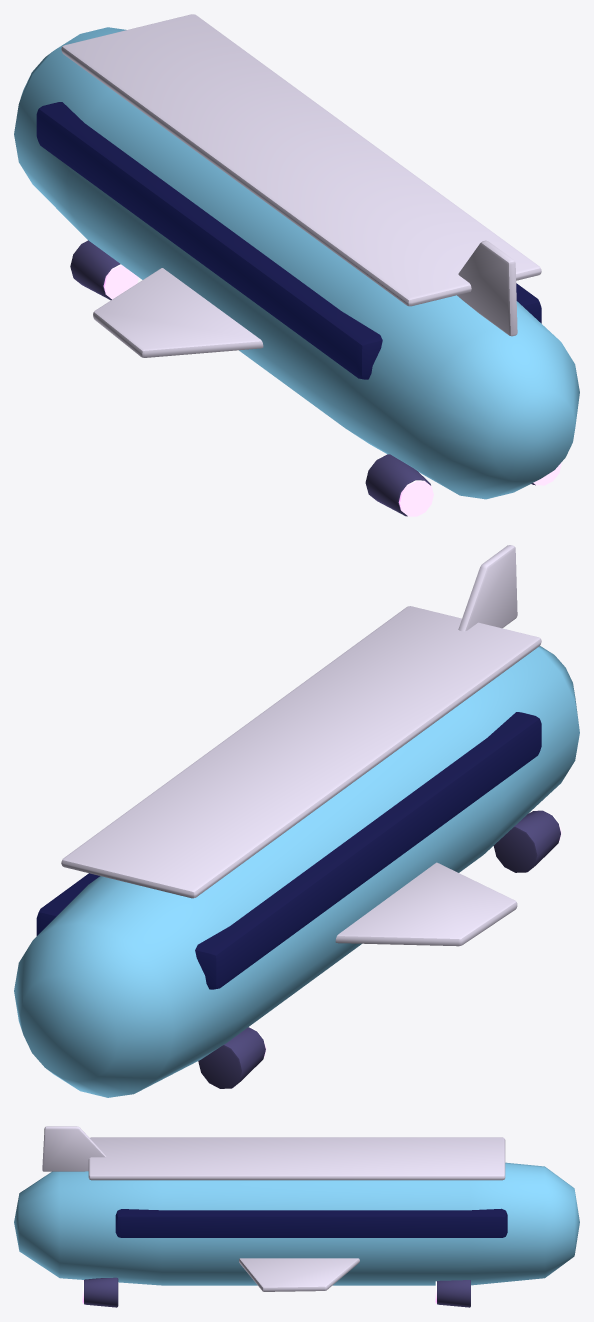
The model's file is sky_bus.glb.
3 renders of one model, top to bottom at view 1: azimuth 30°, elevation 25°; view 2: azimuth 150°, elevation 25°; view 3: azimuth 270°, elevation 25°, orthographic. The views are drawn at different scales.
Visible parts, largest first — view 1: Body; view 2: Body; view 3: Body.
Boxes of the visible parts, box(x1,y1,x2,y2) form: Body: box(14, 14, 579, 516); Body: box(14, 545, 579, 1097); Body: box(14, 1126, 579, 1307).
Bounding box in the file's own units: 5.3 × 3.62 × 11.55.
